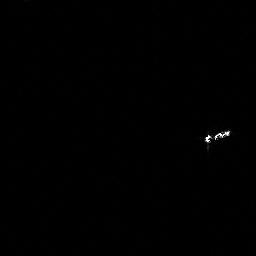ship: (205, 129, 230, 142)
